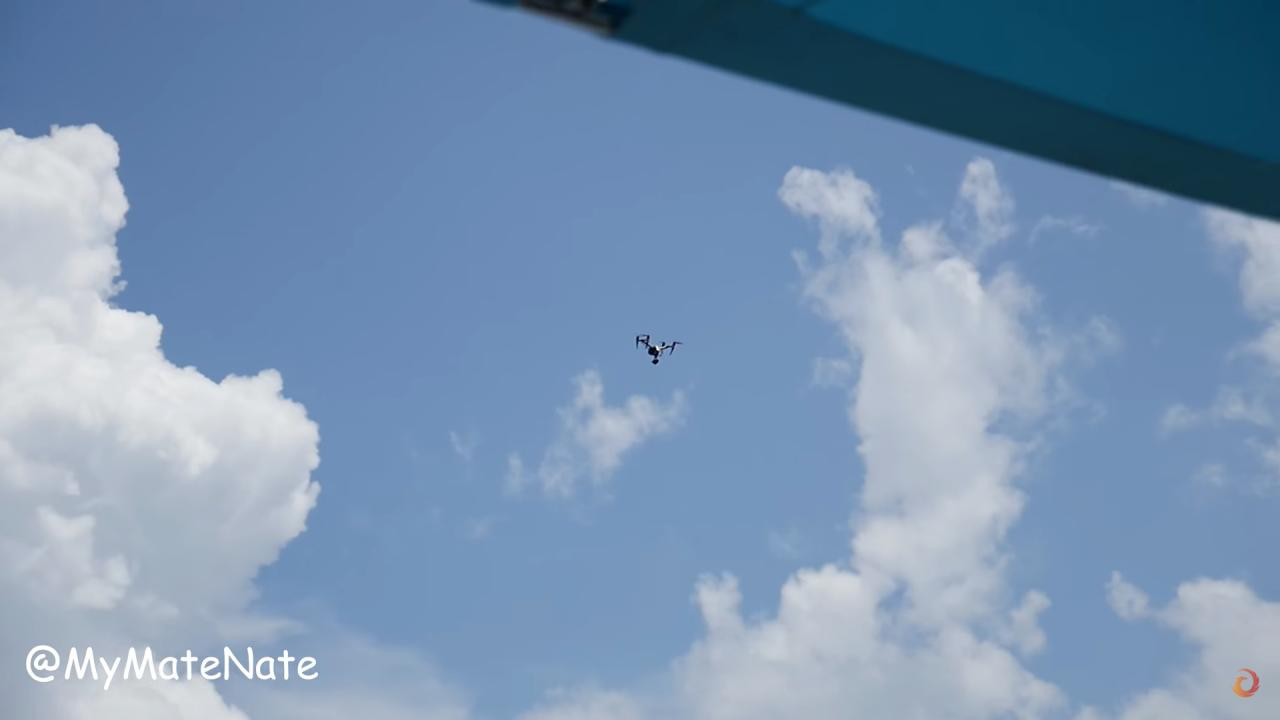Drone: (617, 318, 694, 384)
